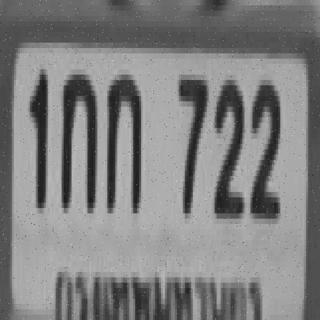A01: (60, 69, 96, 208), (105, 69, 139, 208)
N01: (28, 61, 46, 205)
N02: (212, 74, 242, 214), (248, 74, 278, 214)
N07: (177, 69, 205, 213)
